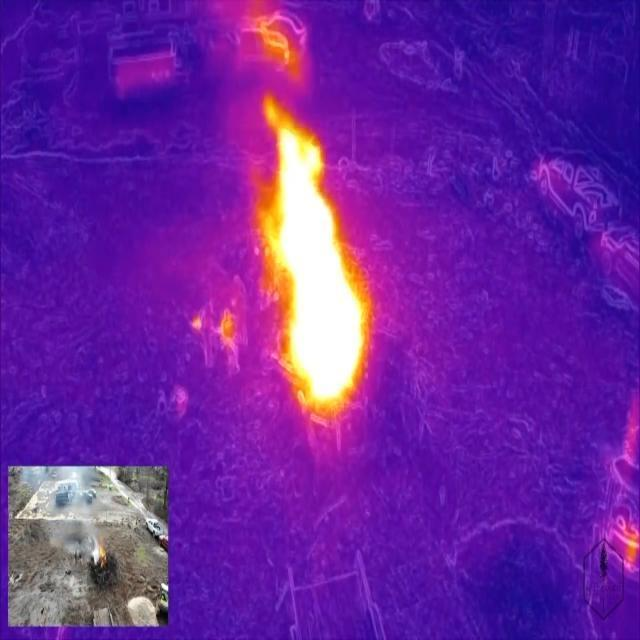fire: (265, 100, 368, 411)
